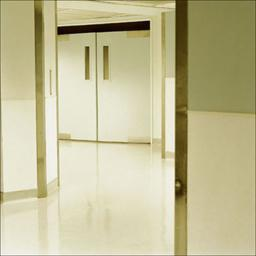Puerta: (58, 32, 151, 146)
